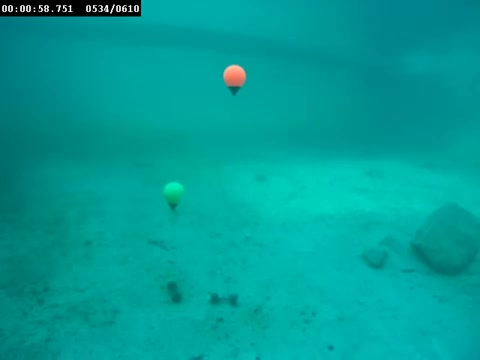buoy_green: (162, 181, 182, 211)
buoy_red: (223, 60, 245, 97)
